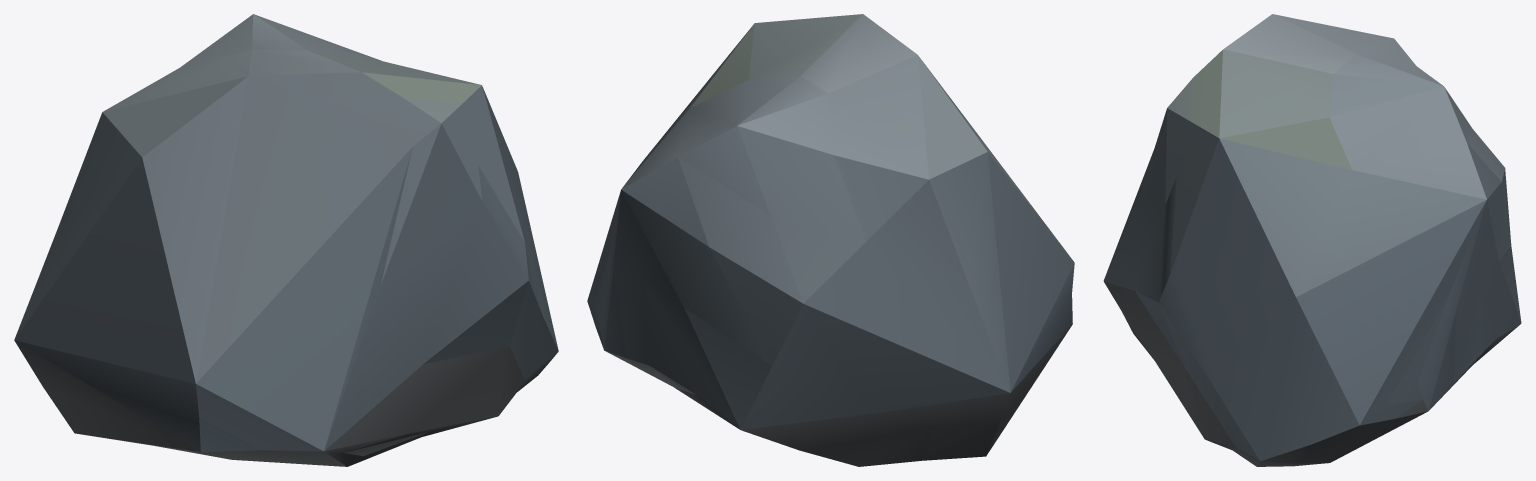
File: boulder_a.glb
3 renders of one model, left to right at view 1: azimuth 30°, elevation 25°; view 2: azimuth 150°, elevation 25°; view 3: azimuth 270°, elevation 25°, orthographic. The views are drawn at different scales.
Visible parts, largest first — view 1: boulder_a; view 2: boulder_a; view 3: boulder_a.
Part boxes in pixels (x1,y1,x2,y2): boulder_a: (14, 14, 558, 466); boulder_a: (587, 14, 1074, 466); boulder_a: (1103, 14, 1521, 466).
Bounding box in the file's own units: 2.94 × 2.19 × 2.47.
